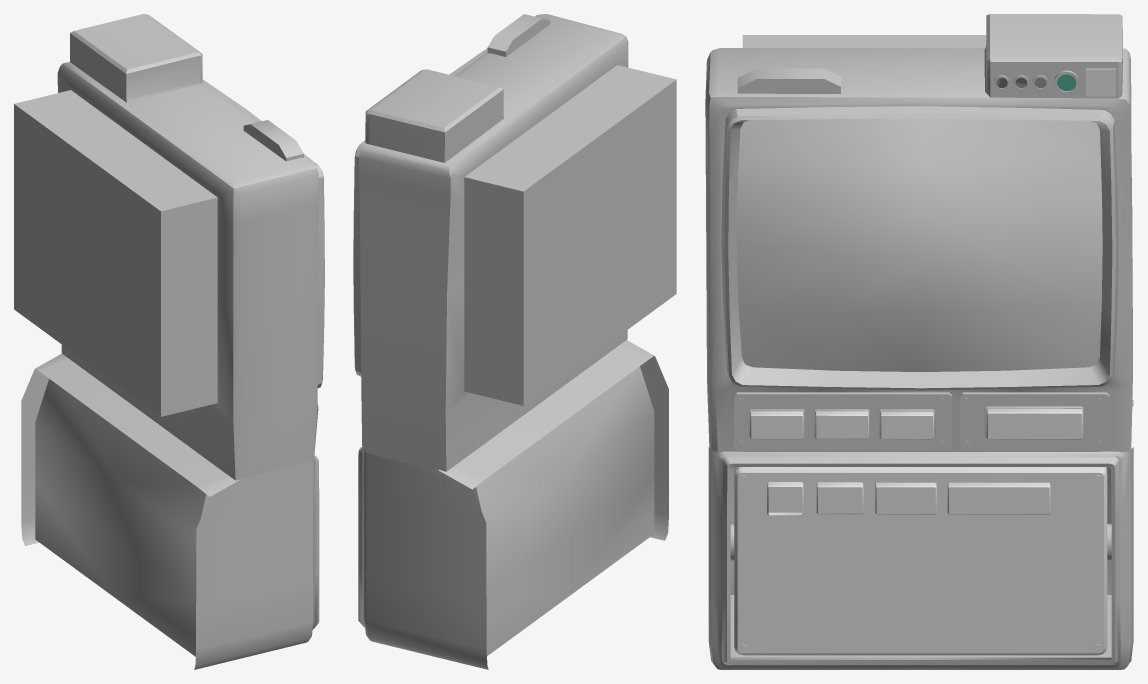
File: CenterConsole_01.fbx
3 renders of one model, left to right at view 1: azimuth 30°, elevation 25°; view 2: azimuth 150°, elevation 25°; view 3: azimuth 270°, elevation 25°, orthographic. The views are drawn at different scales.
Parts seen in each view (by area): view 1: centerMonitor_top_v2, centerMonitor_bot_v2; view 2: centerMonitor_top_v2, centerMonitor_bot_v2; view 3: centerMonitor_screen, centerMonitor_top_v2, rotateModule_v2, centerMonitor_bot_v2, ID_button_04, submitBtn, ID_button_03, ID_connectingLine, ID_button_02, zoomBtn_v1.02, zoomBtn_v1.01, zoomBtn_v1.03 (+1 smaller).
Boxes of the visible parts, box(x1,y1,x2,y2) form: centerMonitor_top_v2: box(14, 14, 324, 480); centerMonitor_bot_v2: box(21, 353, 319, 669); centerMonitor_top_v2: box(353, 14, 676, 471); centerMonitor_bot_v2: box(358, 340, 668, 669); centerMonitor_screen: box(736, 118, 1102, 371); centerMonitor_top_v2: box(705, 14, 1132, 452); rotateModule_v2: box(734, 467, 1107, 655); centerMonitor_bot_v2: box(708, 399, 1133, 669); ID_button_04: box(947, 482, 1050, 514); submitBtn: box(986, 408, 1082, 439); ID_button_03: box(875, 482, 936, 514); ID_connectingLine: box(760, 528, 1085, 533); ID_button_02: box(816, 482, 863, 514); zoomBtn_v1.02: box(750, 411, 803, 439); zoomBtn_v1.01: box(815, 411, 868, 439); zoomBtn_v1.03: box(880, 411, 933, 439).
Size of the model in its own units: 2.13 by 6.22 by 3.93.
